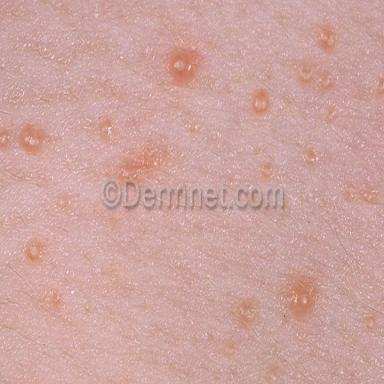Molluscum-Contagiosum: (287, 278, 317, 319), (169, 48, 200, 85), (19, 125, 44, 153), (317, 26, 337, 53), (237, 299, 257, 325), (252, 90, 270, 114), (55, 191, 71, 212), (99, 118, 113, 139), (304, 146, 318, 164), (319, 75, 334, 91), (364, 315, 377, 331), (29, 244, 41, 259), (299, 67, 311, 82), (343, 186, 355, 201), (261, 162, 272, 178), (326, 107, 337, 123), (0, 130, 10, 147), (190, 121, 198, 130)
